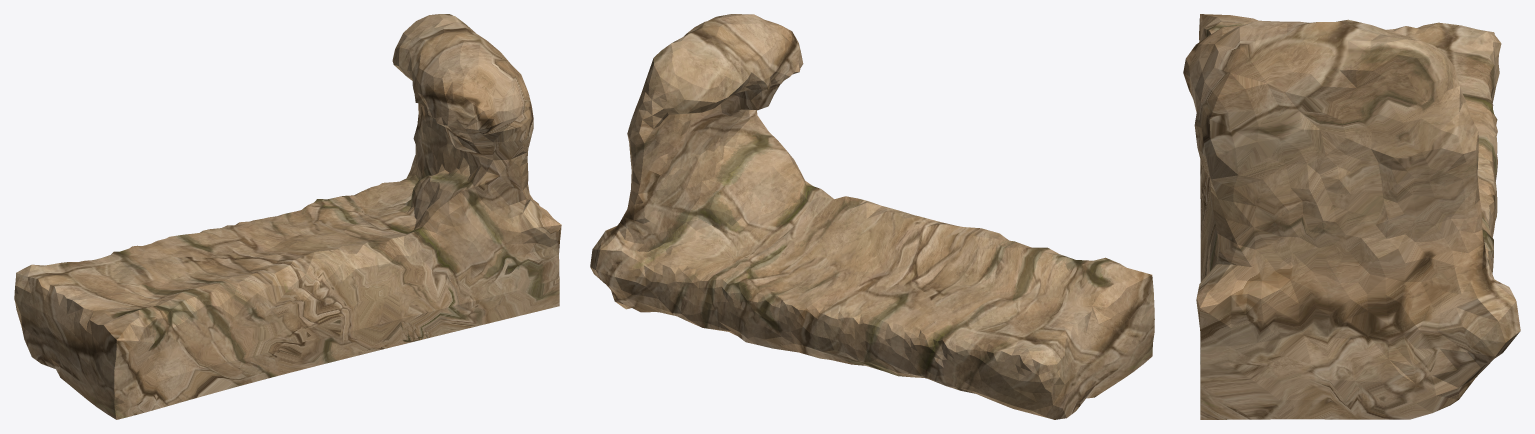
Rendered from Waterfall.Cliff.fbx.
3 renders of one model, left to right at view 1: azimuth 30°, elevation 25°; view 2: azimuth 150°, elevation 25°; view 3: azimuth 270°, elevation 25°, orthographic. The views are drawn at different scales.
Visible parts, largest first — view 1: Waterfall.Cliff001; view 2: Waterfall.Cliff001; view 3: Waterfall.Cliff001.
Part boxes in pixels (x1,y1,x2,y2): Waterfall.Cliff001: (14,14,561,419); Waterfall.Cliff001: (590,14,1154,419); Waterfall.Cliff001: (1183,14,1520,419).
Size of the model in its own units: 1199 by 664 by 556.
1 material, 1 textured.
